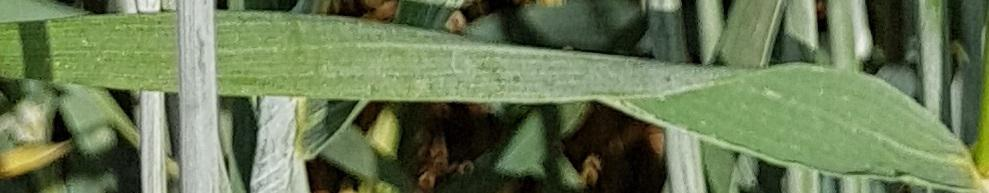Wheat: (680, 70, 914, 133), (798, 137, 985, 193), (4, 30, 204, 79), (220, 15, 343, 94), (469, 57, 670, 100), (350, 39, 464, 94), (263, 110, 295, 193)
